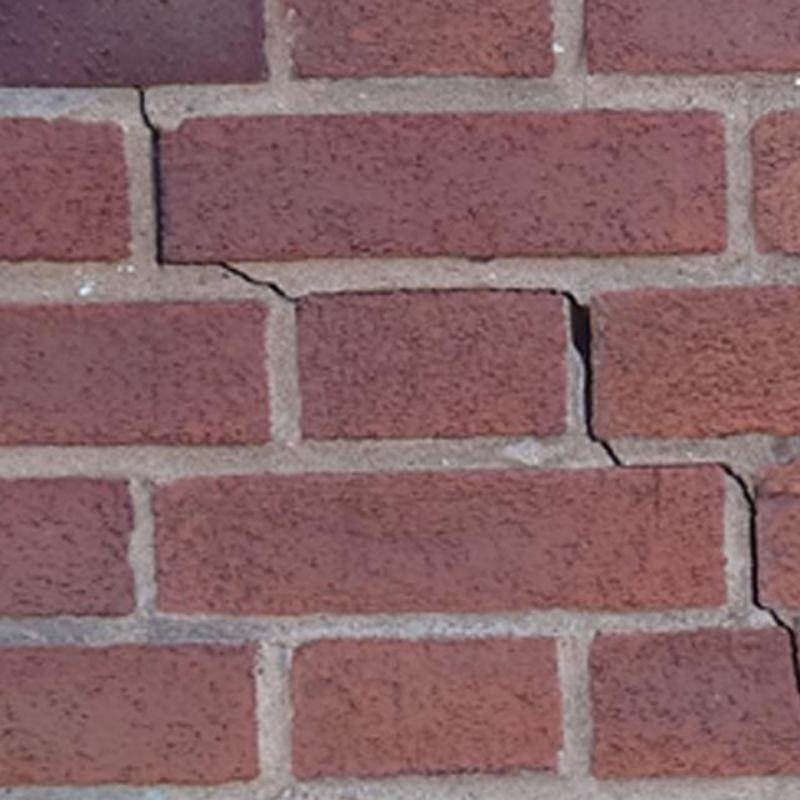pothole: (714, 461, 799, 691), (563, 292, 622, 466), (138, 88, 162, 262), (296, 288, 558, 300), (222, 262, 294, 303), (621, 461, 715, 469), (164, 260, 221, 266)
